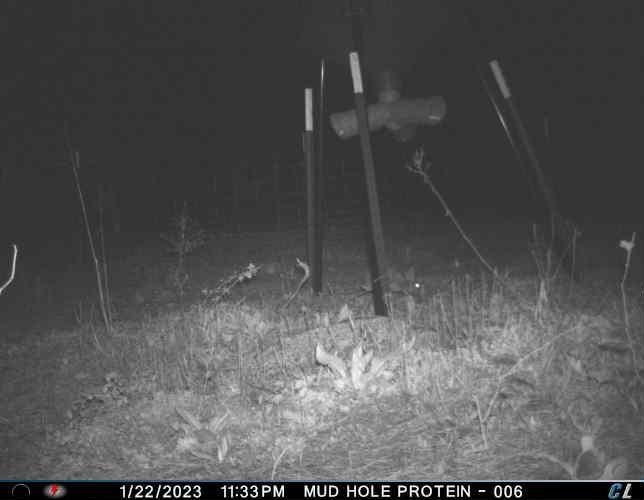Rabbit: (390, 263, 427, 304)
